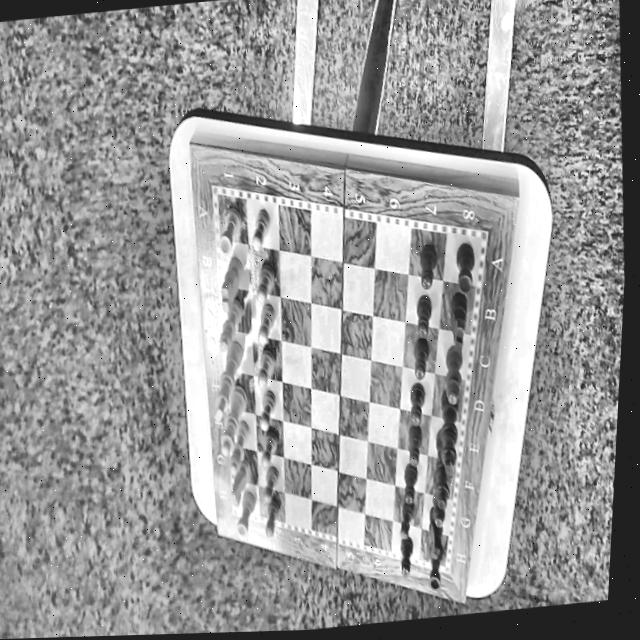chessboard: (216, 195, 481, 567)
